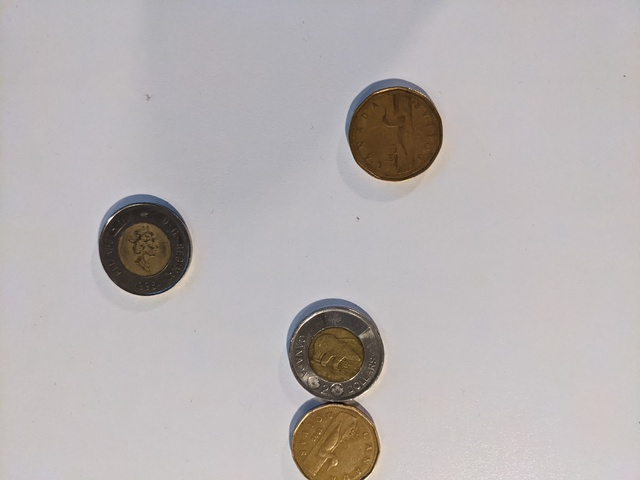loonie: (339, 76, 445, 187), (271, 395, 395, 476)
twonie: (91, 191, 198, 300), (281, 302, 392, 399)
